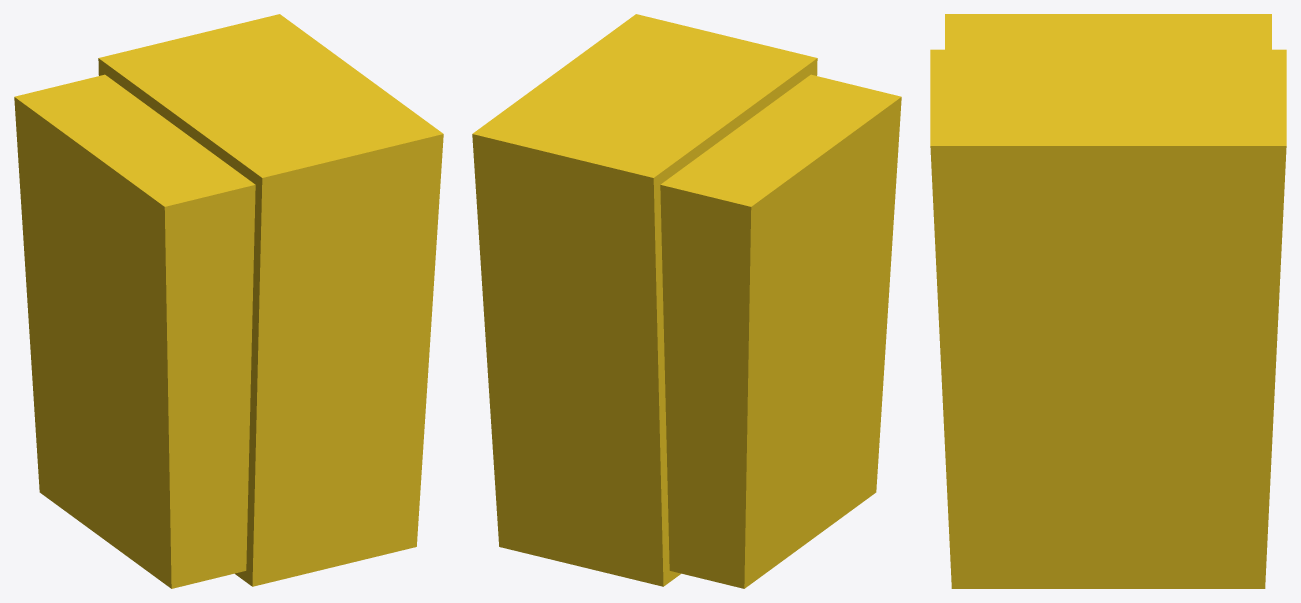
Rendered from Zeus_Guantlet.FBX.
The picture shows the model from 3 angles, left to right: view 1: azimuth 30°, elevation 25°; view 2: azimuth 150°, elevation 25°; view 3: azimuth 270°, elevation 25°; orthographic projection. The views are drawn at different scales.
Parts seen in each view (by area): view 1: Gauntlet_Zeus; view 2: Gauntlet_Zeus; view 3: Gauntlet_Zeus.
Part boxes in pixels (x1,y1,x2,y2): Gauntlet_Zeus: [14, 14, 443, 588]; Gauntlet_Zeus: [472, 14, 901, 588]; Gauntlet_Zeus: [930, 14, 1286, 588].
Size of the model in its own units: 4.74 by 4.94 by 6.92.
Materials: 1 (1 with a texture image).
